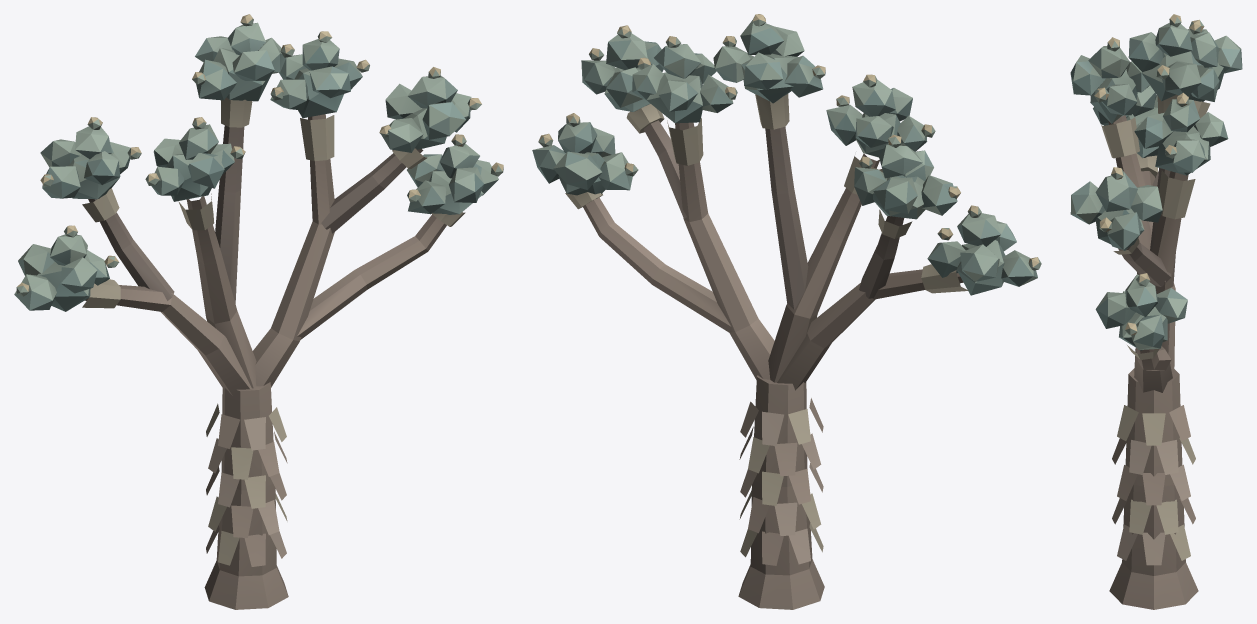
The model's file is joshua.glb.
3 renders of one model, left to right at view 1: azimuth 30°, elevation 25°; view 2: azimuth 150°, elevation 25°; view 3: azimuth 270°, elevation 25°, orthographic. The views are drawn at different scales.
Size of the model in its own units: 5.41 by 6.03 by 1.62.
